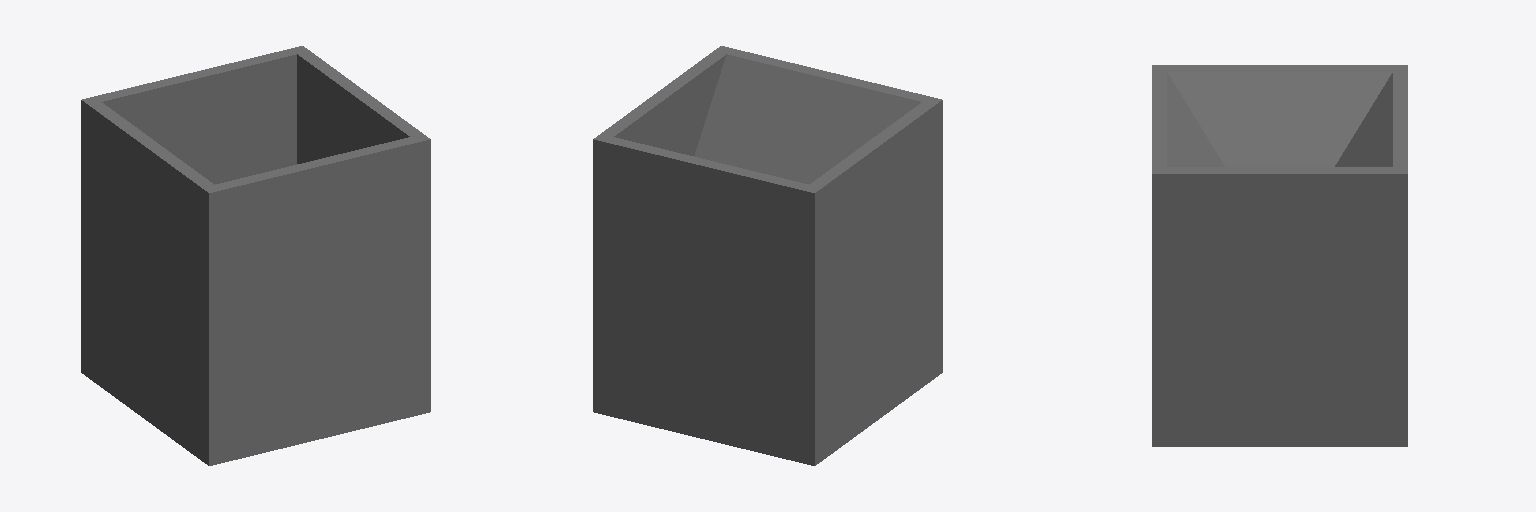
Rendered from chimenea.obj.
3 views of the same model, side by side, from view 1: azimuth 30°, elevation 25°; view 2: azimuth 150°, elevation 25°; view 3: azimuth 270°, elevation 25° (orthographic).
Visible parts, largest first — view 1: Box002; view 2: Box002; view 3: Box002.
Boxes of the visible parts, x1=… form: Box002: x1=81, y1=46, x2=430, y2=465; Box002: x1=593, y1=46, x2=942, y2=465; Box002: x1=1152, y1=65, x2=1407, y2=446.
Bounding box in the file's own units: 17 × 20 × 17.